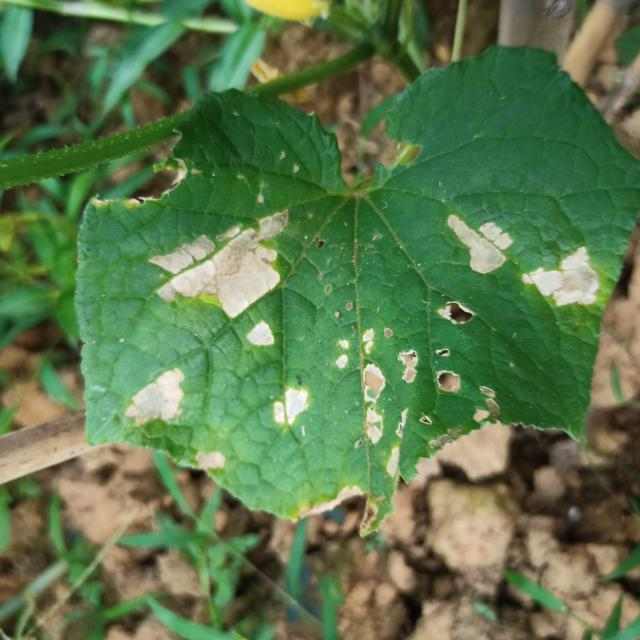disease_cucumber: (147, 204, 301, 356), (331, 321, 390, 446), (522, 243, 605, 314), (442, 204, 516, 280), (116, 366, 194, 428), (398, 342, 464, 404), (270, 376, 310, 440), (188, 444, 243, 482), (440, 296, 478, 332)
